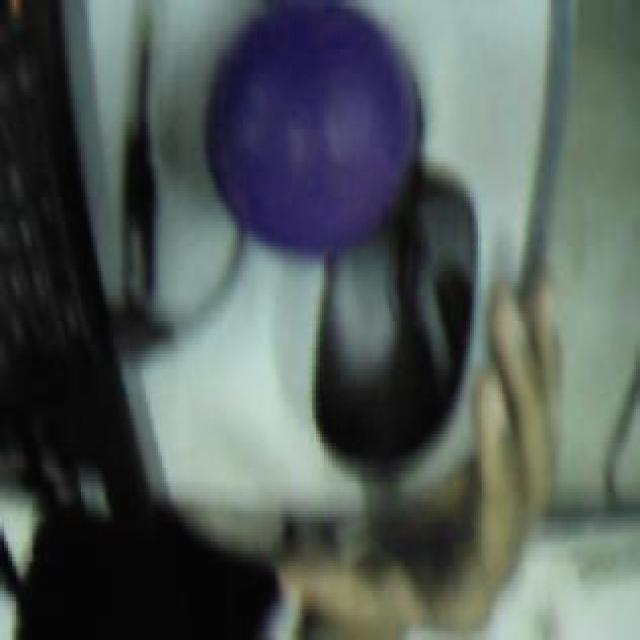BallPurple: (204, 0, 419, 251)
